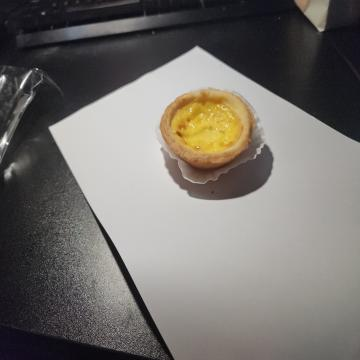EggTart: (160, 88, 252, 170)
